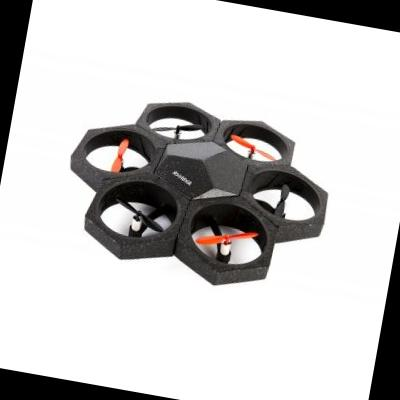drone: (40, 86, 344, 294)
